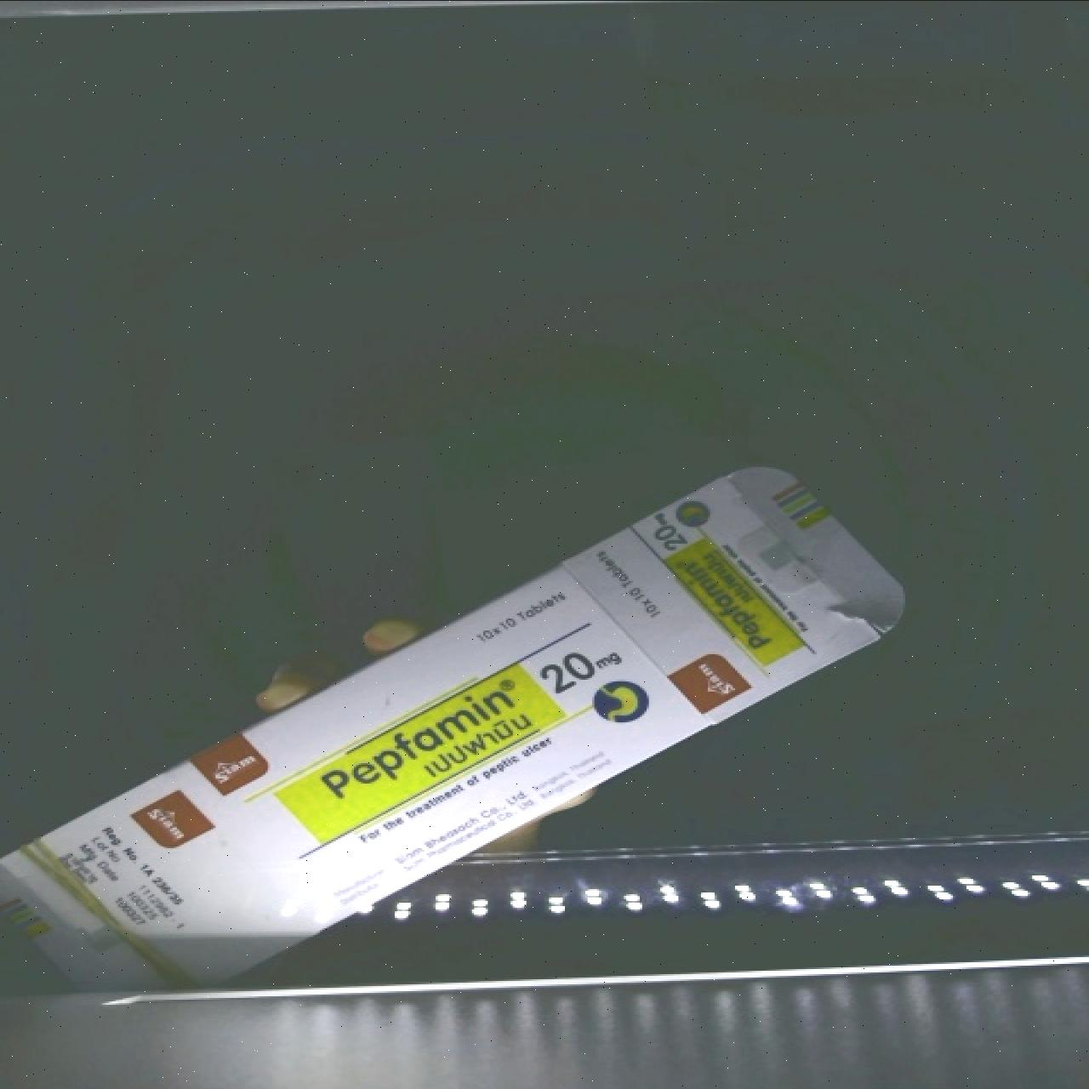medicine_label_obb: (283, 660, 552, 851)
